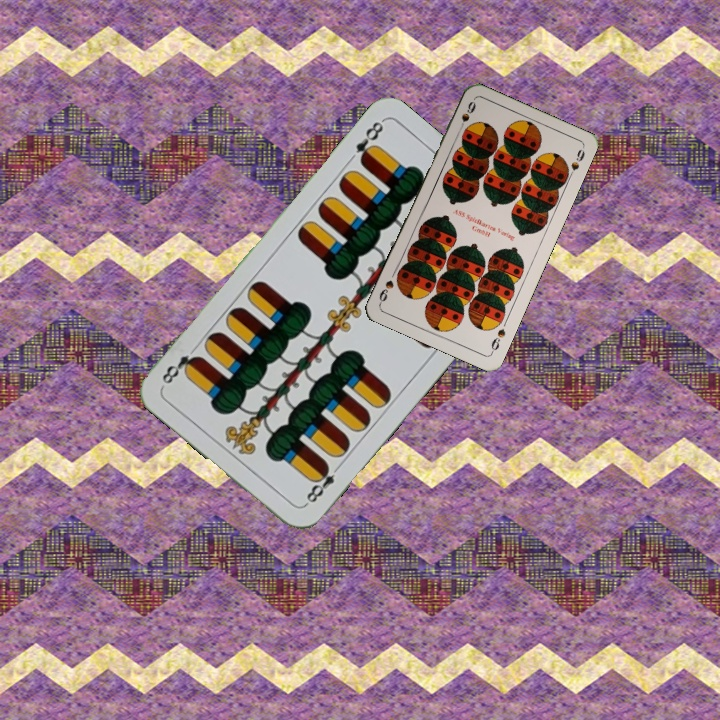E8: (301, 459, 344, 508), (352, 117, 386, 168)
S9: (454, 97, 478, 135), (487, 325, 508, 356)
